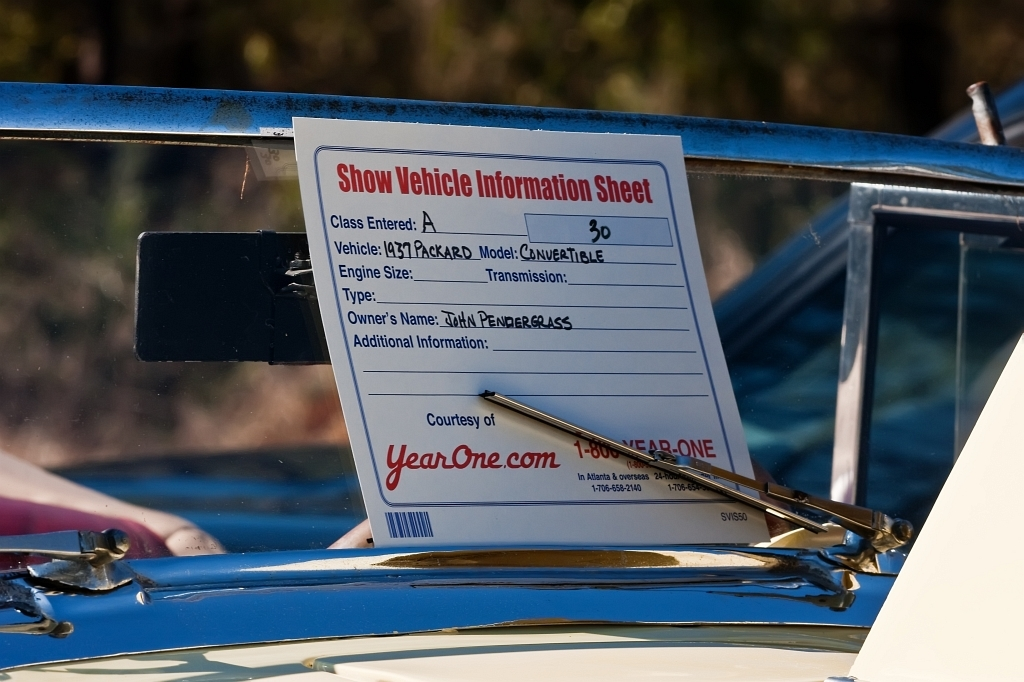Car: (0, 82, 1022, 681)
